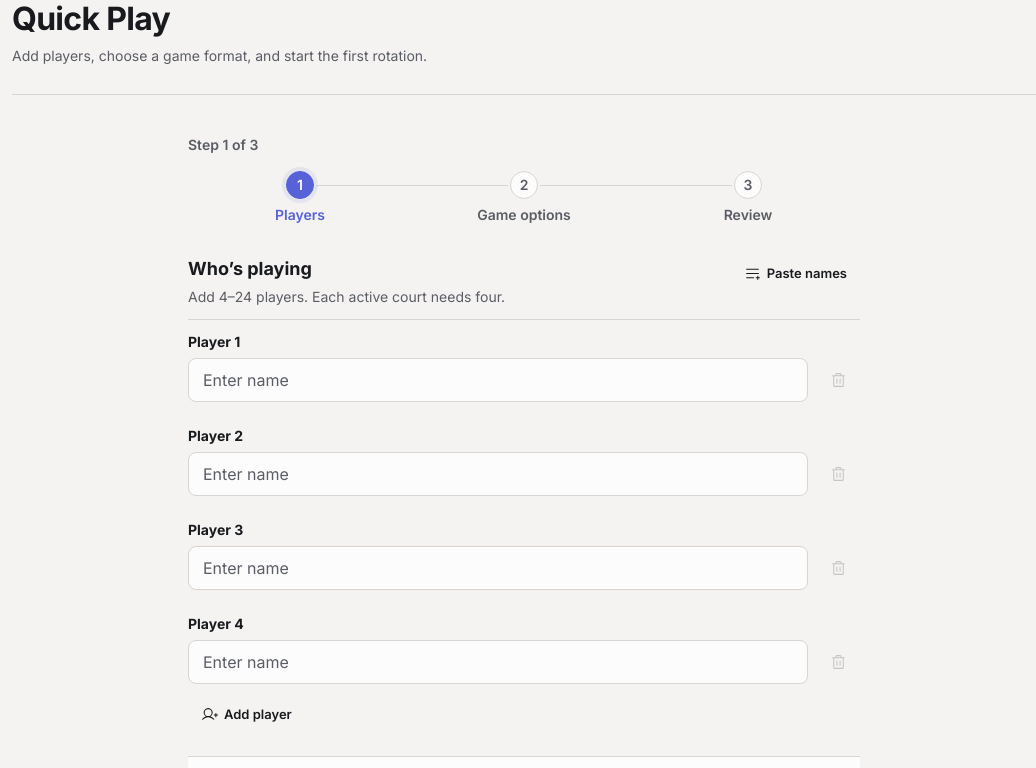
Test: PublicQuickPlay › keeps a valid neighboring player clear when Player 4 has a duplicate name
The image size is (1036, 768).
Type "Alex" into the field labelled "Player 1" at (498, 380), box [188,358,808,402]
Type "Bea" into the field labelled "Player 2" at (498, 474), box [188,452,808,496]
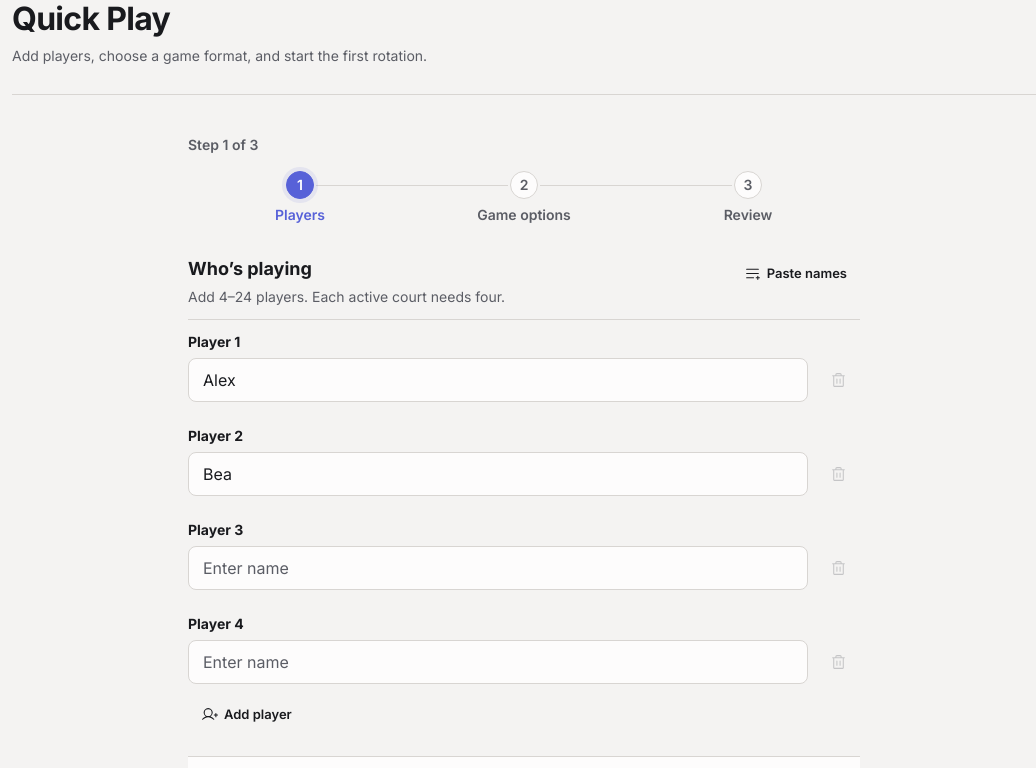
Type "Casey" into the field labelled "Player 3" at (498, 568), box [188,546,808,590]
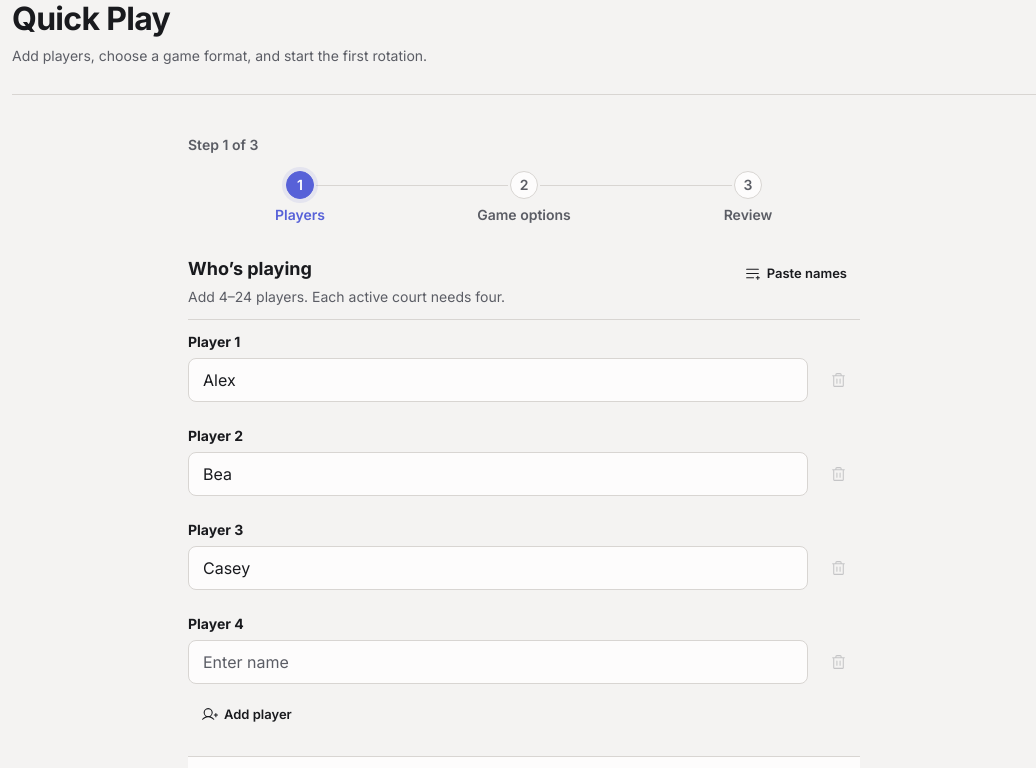
Type "Alex" into the field labelled "Player 4" at (498, 662), box [188,640,808,684]
(page scrolled)
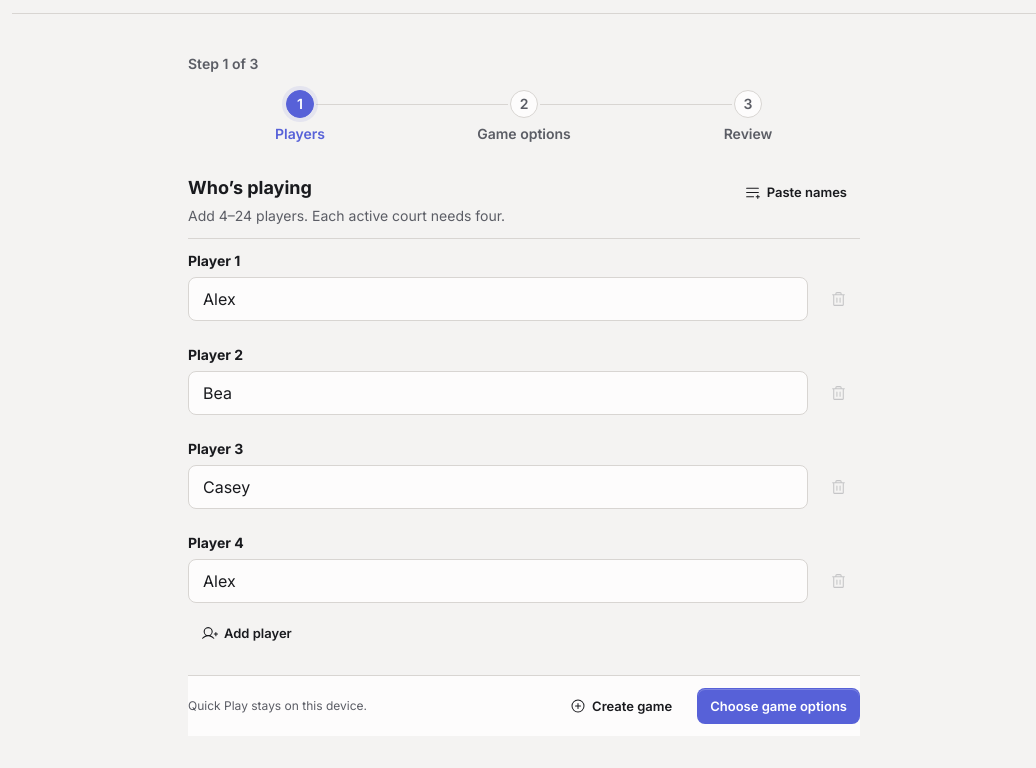
Click the button "Choose game options" at (779, 706), box [697,688,860,724]
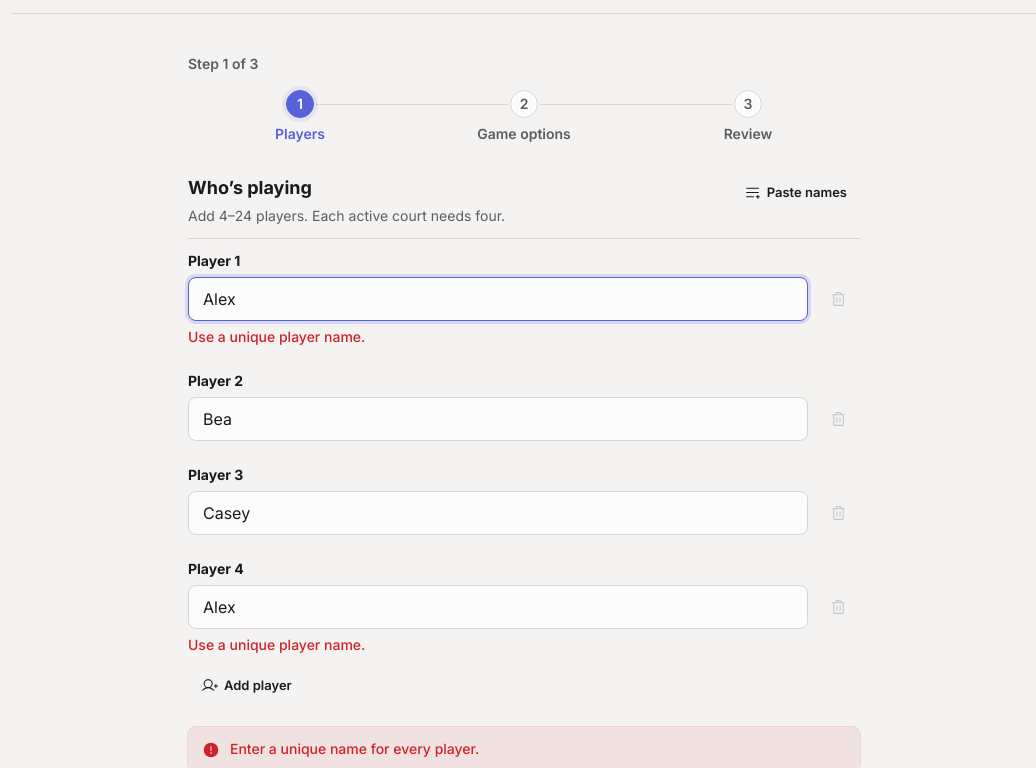
Expected: the field labelled "Player 4" is marked as invalid
Replace the text in the field labelled "Player 4" with "Drew" at (498, 607), box [188,585,808,629]
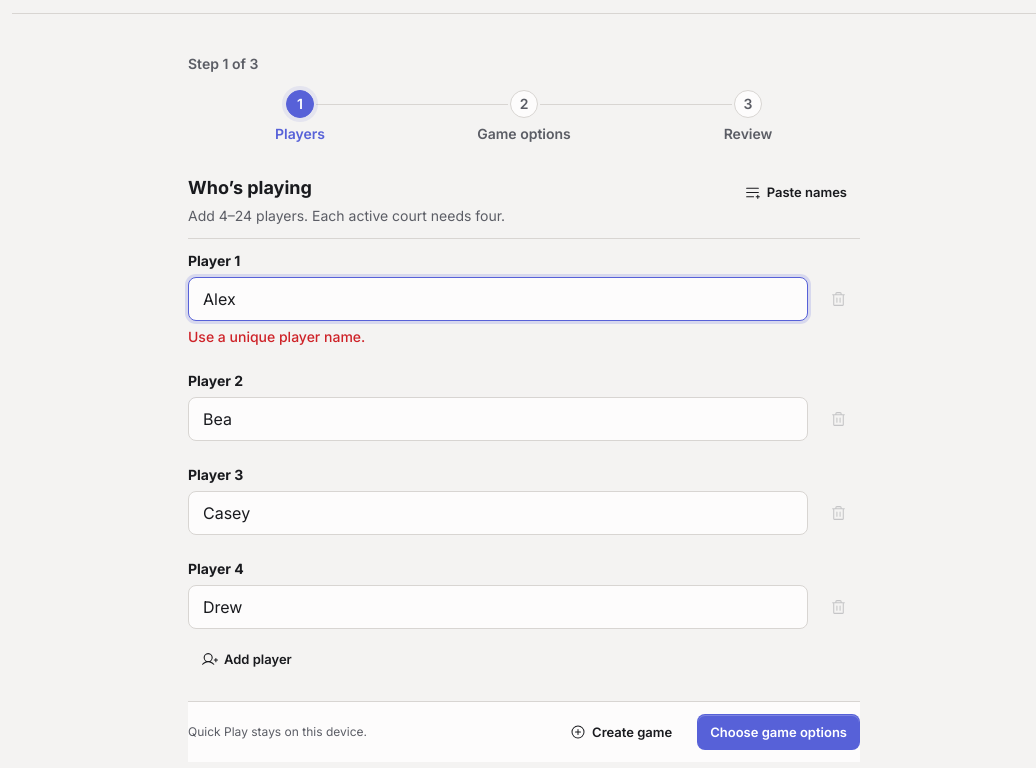
Click the button "Choose game options" at (779, 732), box [697,714,860,750]
(page scrolled)
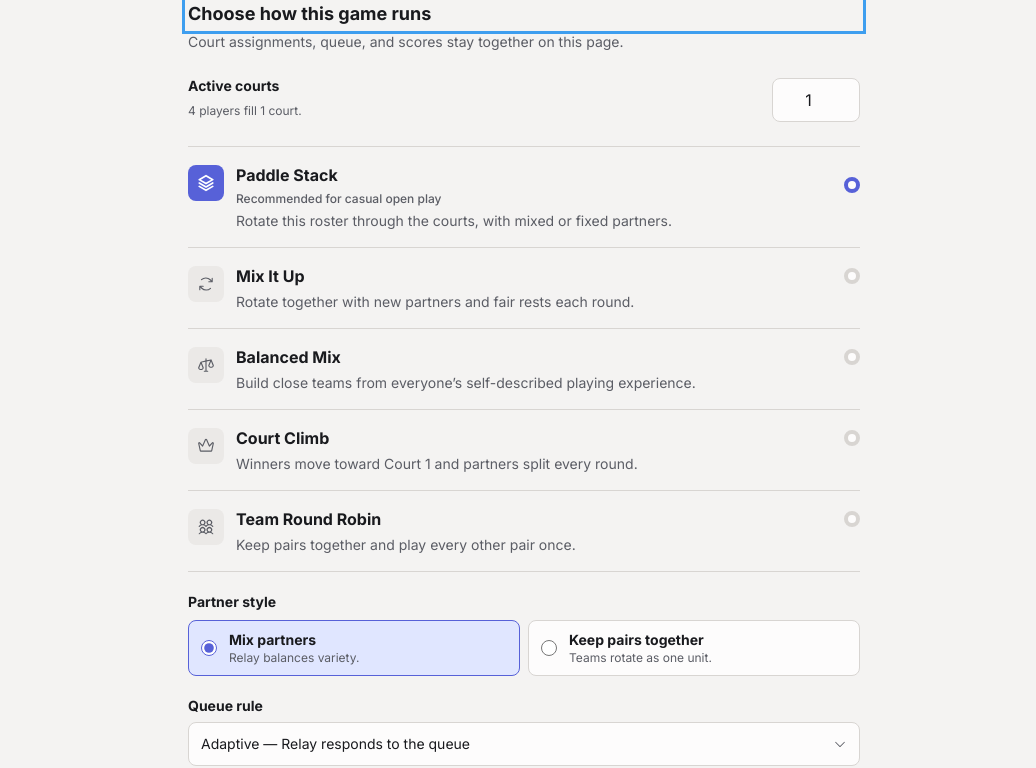
Expected: the heading "Choose how this game runs" is shown, [188,3,431,24]
